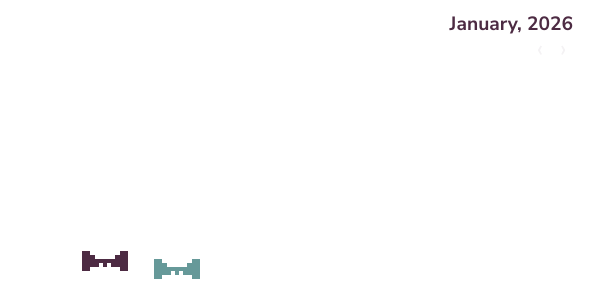
Test case: GitHubContributions › hover tooltip › switches the tooltip content when moving to another bird
This screenshot has width=590, height=296.
Hover over the picture named "2026-01-02: 5 contributions" at (178, 269), box [154,259,200,280]
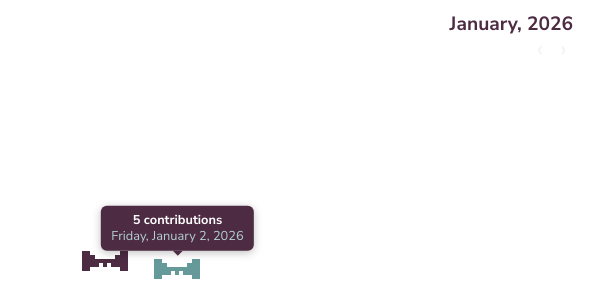
Hover over the picture named "2026-01-03: 20 contributions" at (104, 261), box [82,251,128,272]
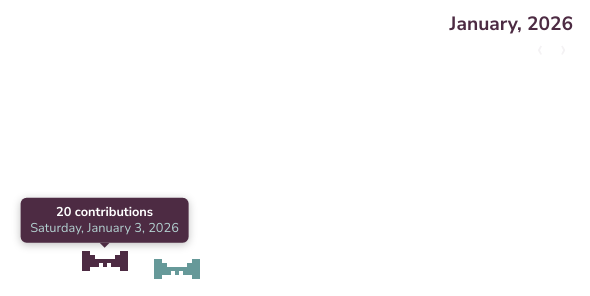
Now the tooltip shows "20 contributions", box [56,202,153,220]
Now the tooltip no longer shows "5 contributions", box [20,197,189,243]
